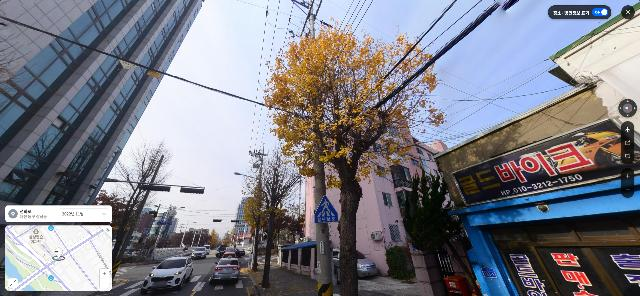ginkgo: (264, 17, 445, 296), (241, 145, 305, 289)
other: (398, 164, 478, 296), (111, 139, 171, 281), (242, 176, 271, 271)
